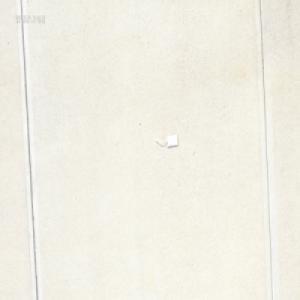LuggageTag: (153, 133, 178, 149)
